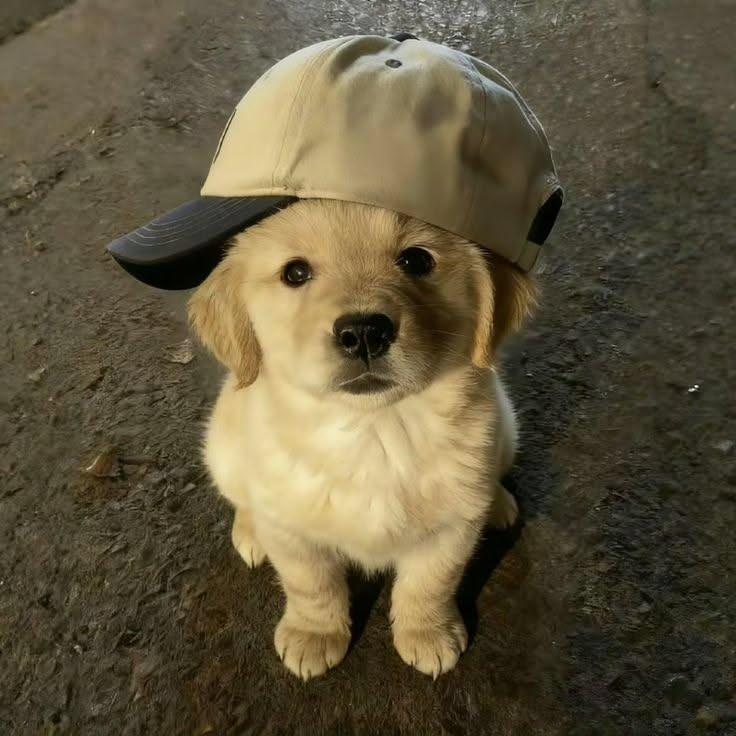puppy-dog: (183, 190, 531, 687)
